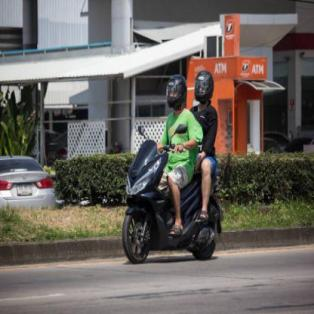Motocicleta: (117, 130, 226, 261)
